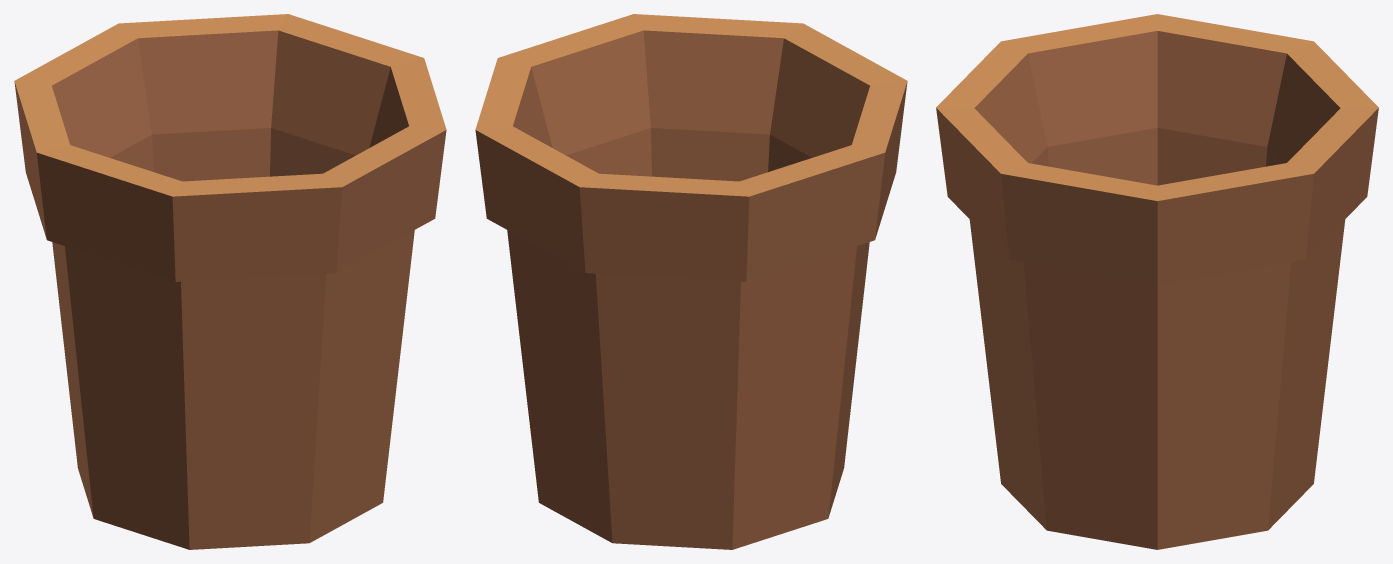
The model's file is SM_Prop_Pot_01.fbx.
The picture shows the model from 3 angles, left to right: view 1: azimuth 30°, elevation 25°; view 2: azimuth 150°, elevation 25°; view 3: azimuth 270°, elevation 25°; orthographic projection.
Visible parts, largest first — view 1: SM_Prop_Pot_01; view 2: SM_Prop_Pot_01; view 3: SM_Prop_Pot_01.
Part boxes in pixels (box(x1,y1,x2,y2)): SM_Prop_Pot_01: box(14, 14, 446, 549); SM_Prop_Pot_01: box(475, 14, 907, 549); SM_Prop_Pot_01: box(936, 14, 1378, 549).
Size of the model in its own units: 28.9 by 27.1 by 28.9.
